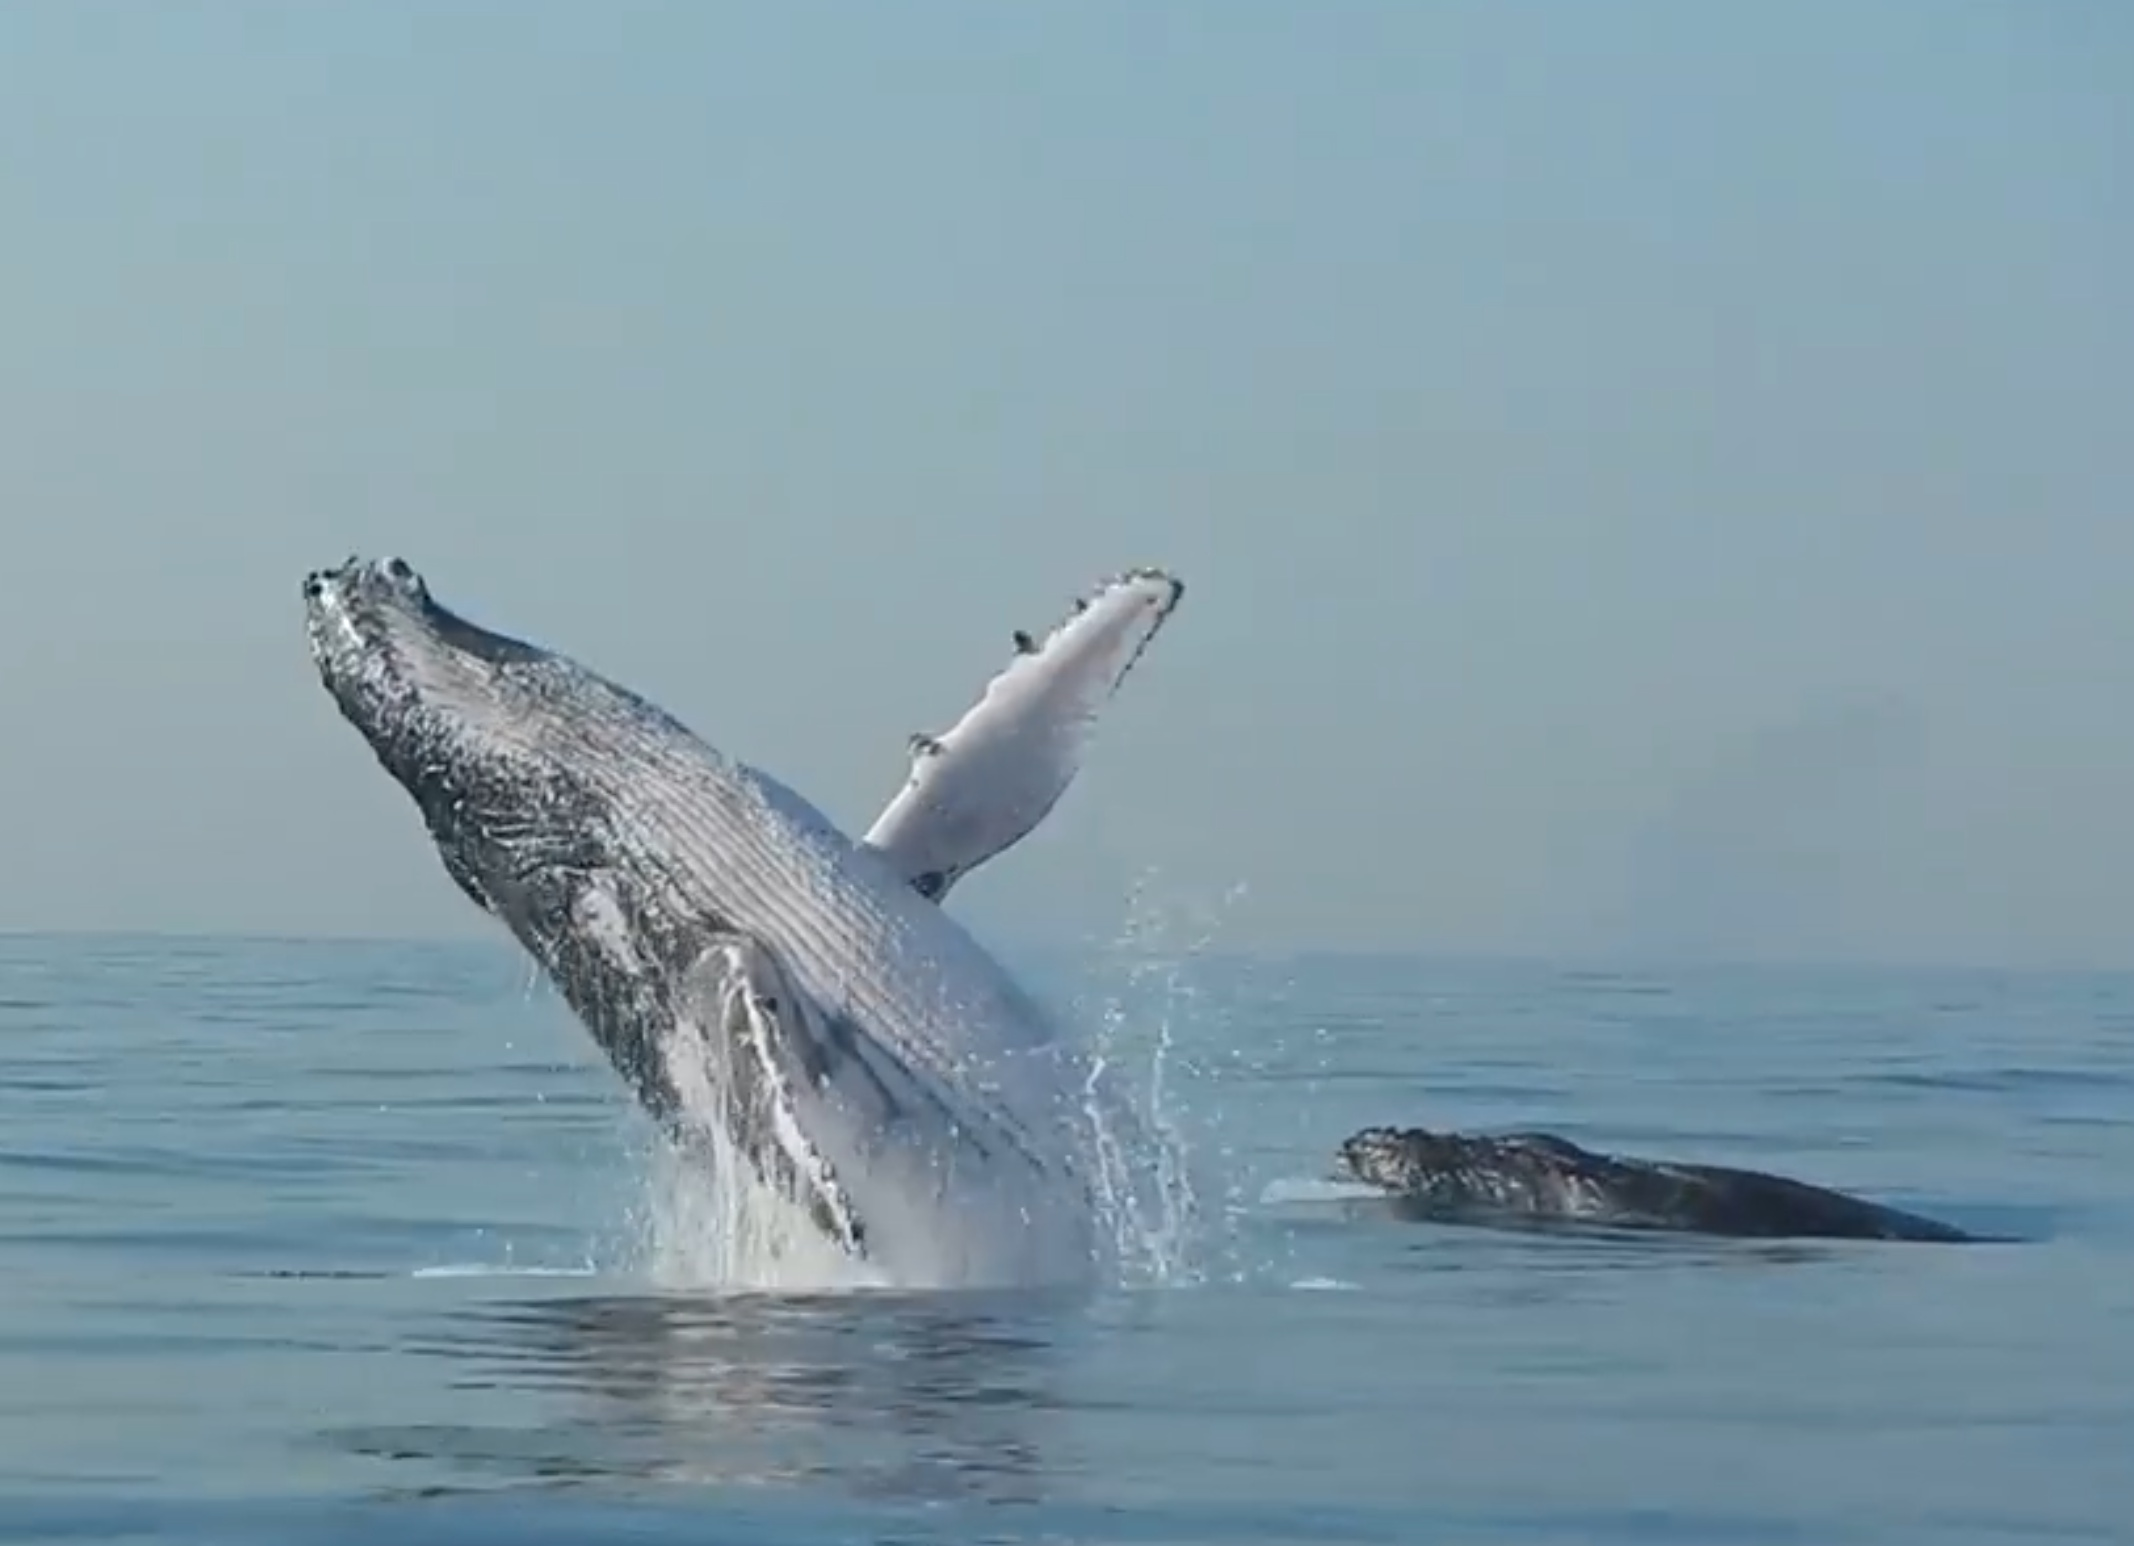humpback: (302, 555, 1209, 1279)
